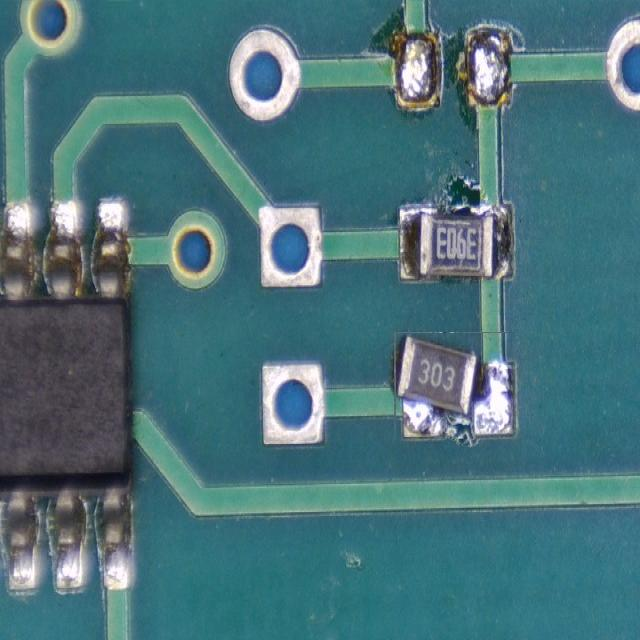Incorrect_installation: (395, 332, 514, 439)
